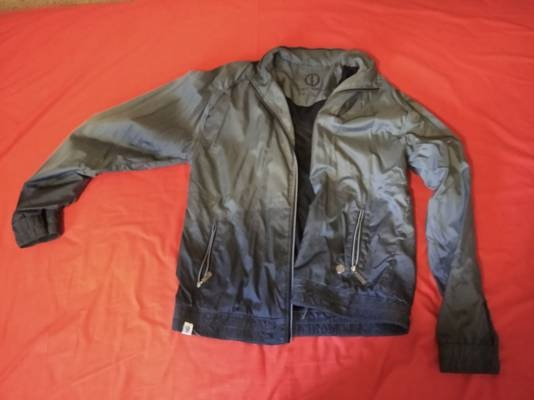Blazer: (19, 56, 529, 380)
